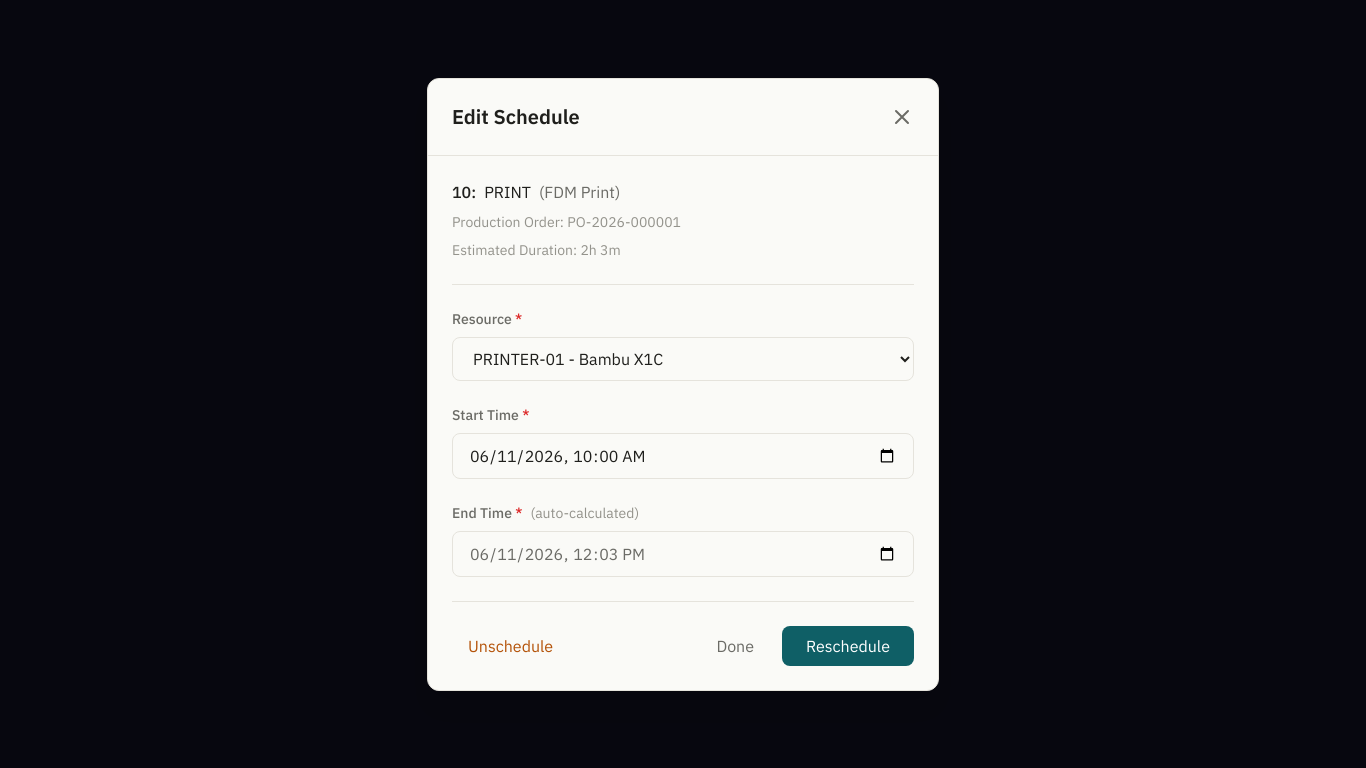
Test: OperationSchedulerModal — edit mode (already scheduled op) › clicking "Unschedule" shows confirm panel
What coordinates should you click on to do the following:
click the button "Unschedule"
I would click on:
 (511, 646)
Its box is [452, 626, 569, 666].
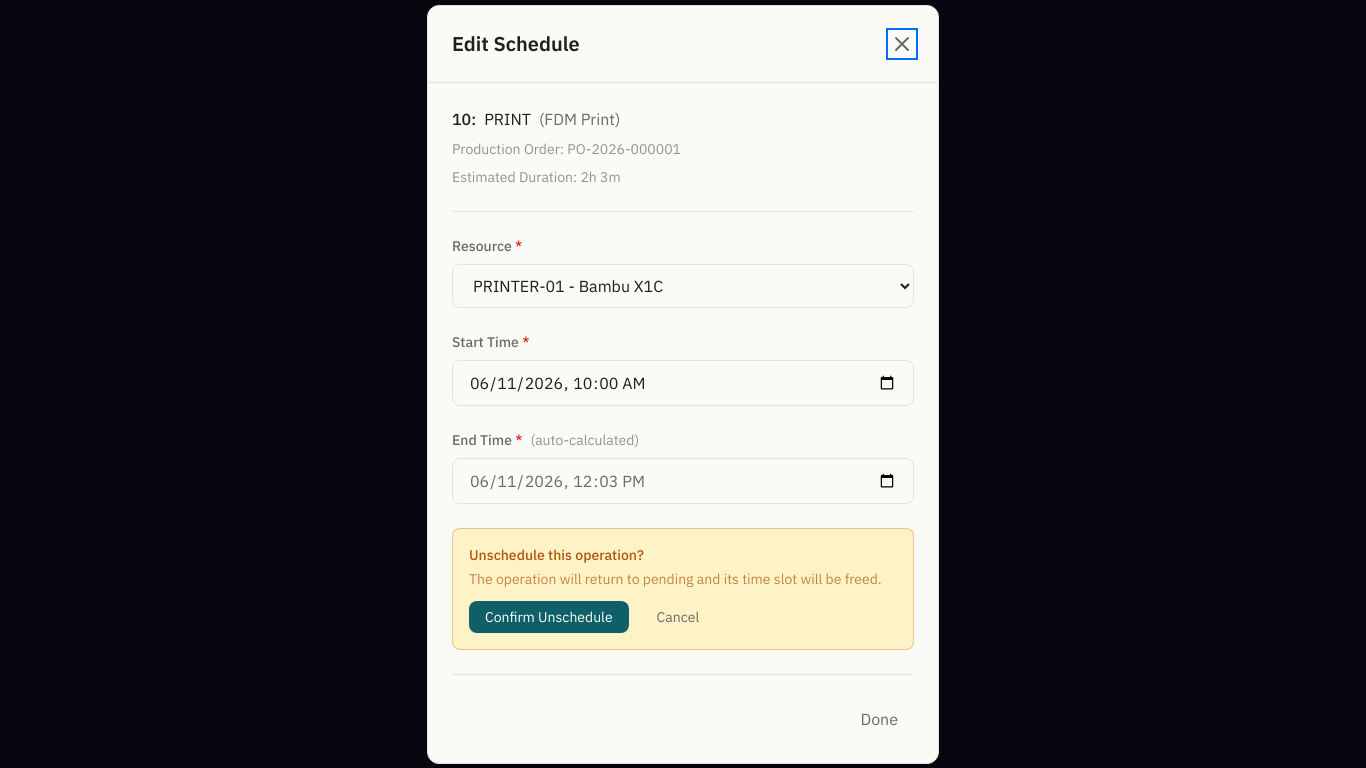
Expected: the text "Unschedule this operation?" is shown, [469, 546, 644, 564]
Expected: the button "Confirm Unschedule" is shown, [469, 600, 629, 632]
